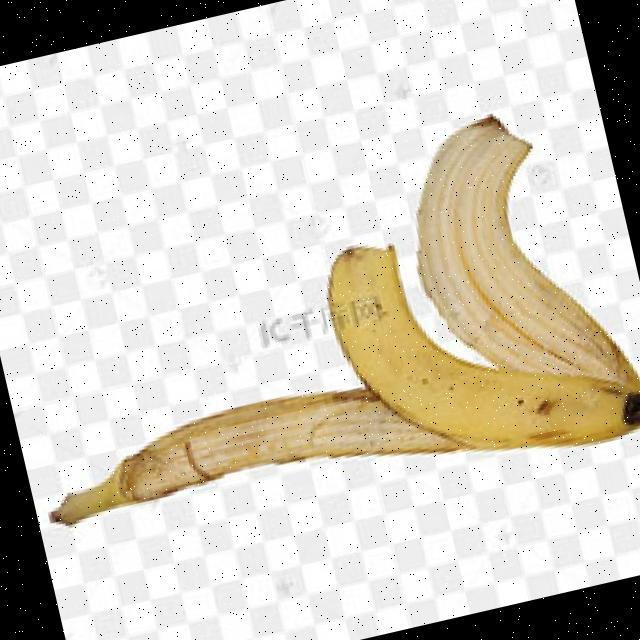banana-peel: (0, 90, 640, 566), (313, 184, 640, 494), (384, 90, 640, 447)
